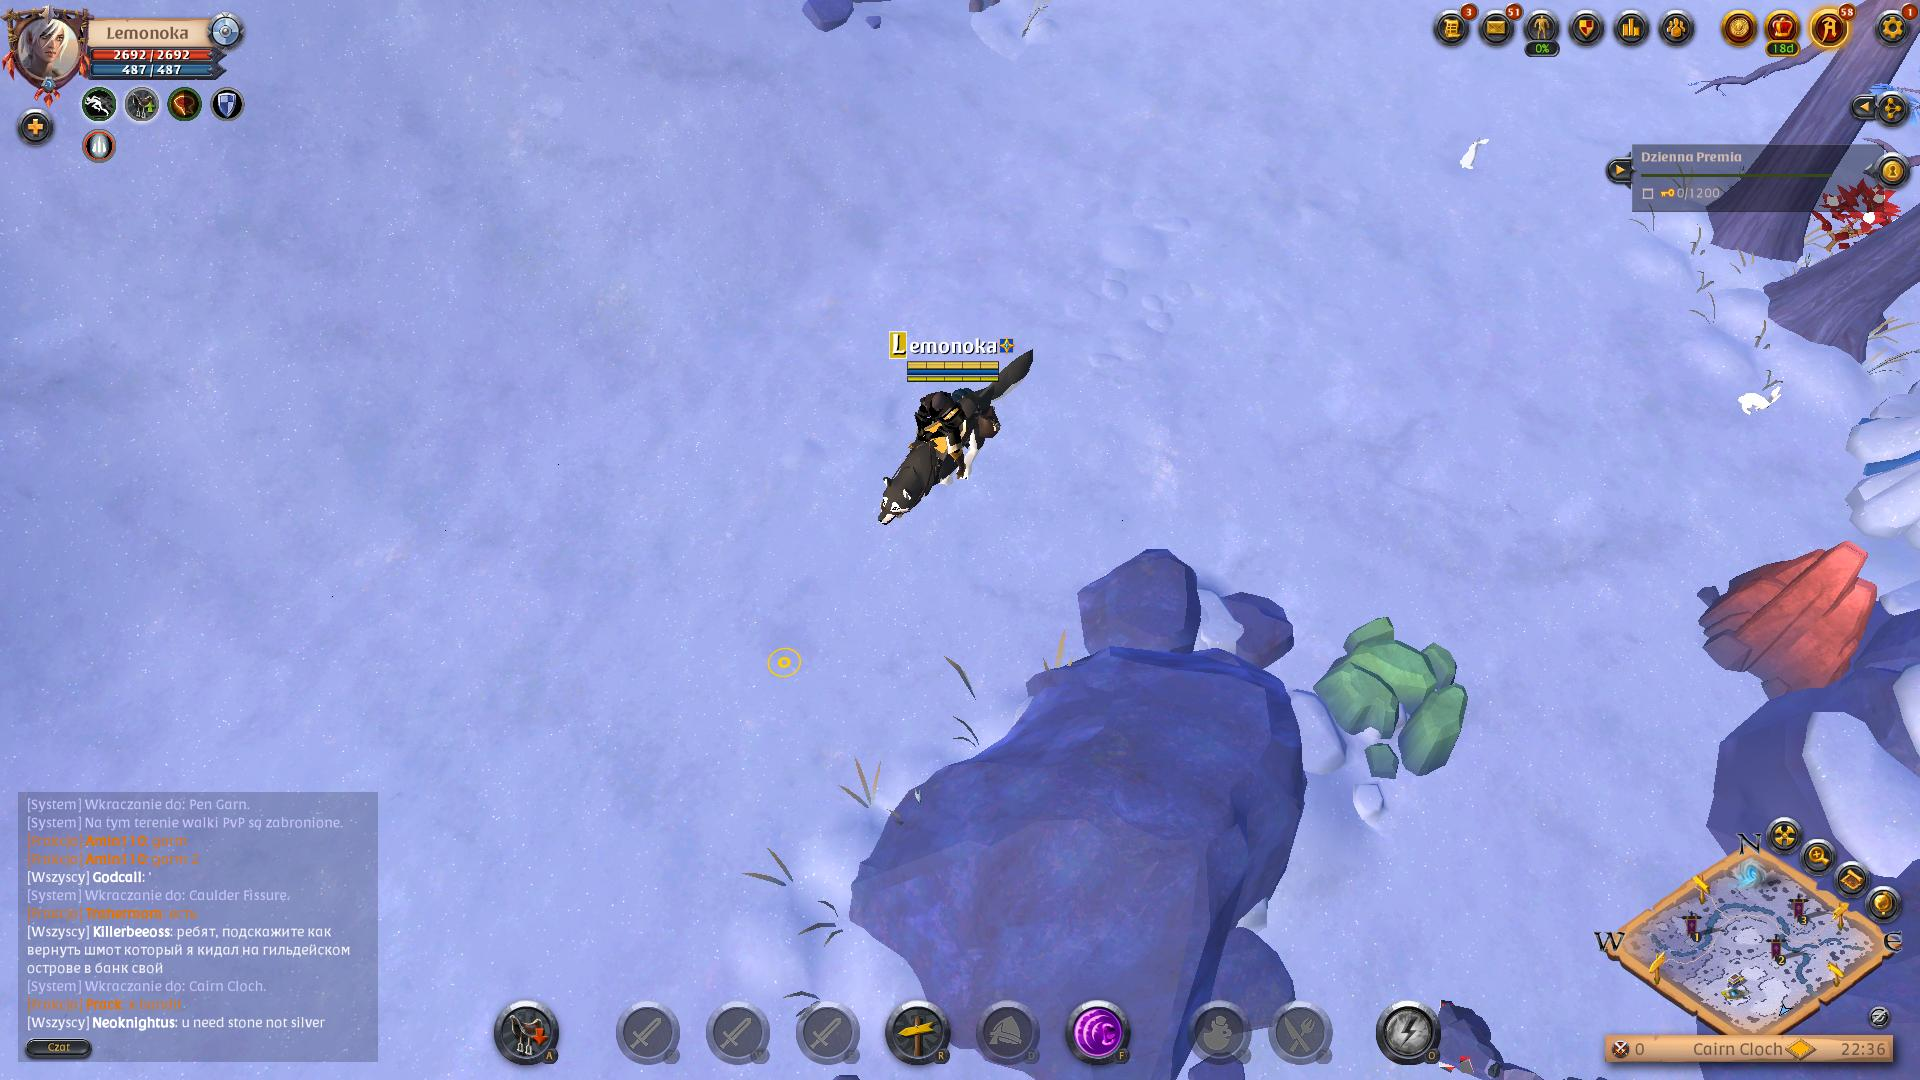rock tier 3: (1315, 605, 1470, 796)
rock tier 5: (1701, 538, 1880, 699)
